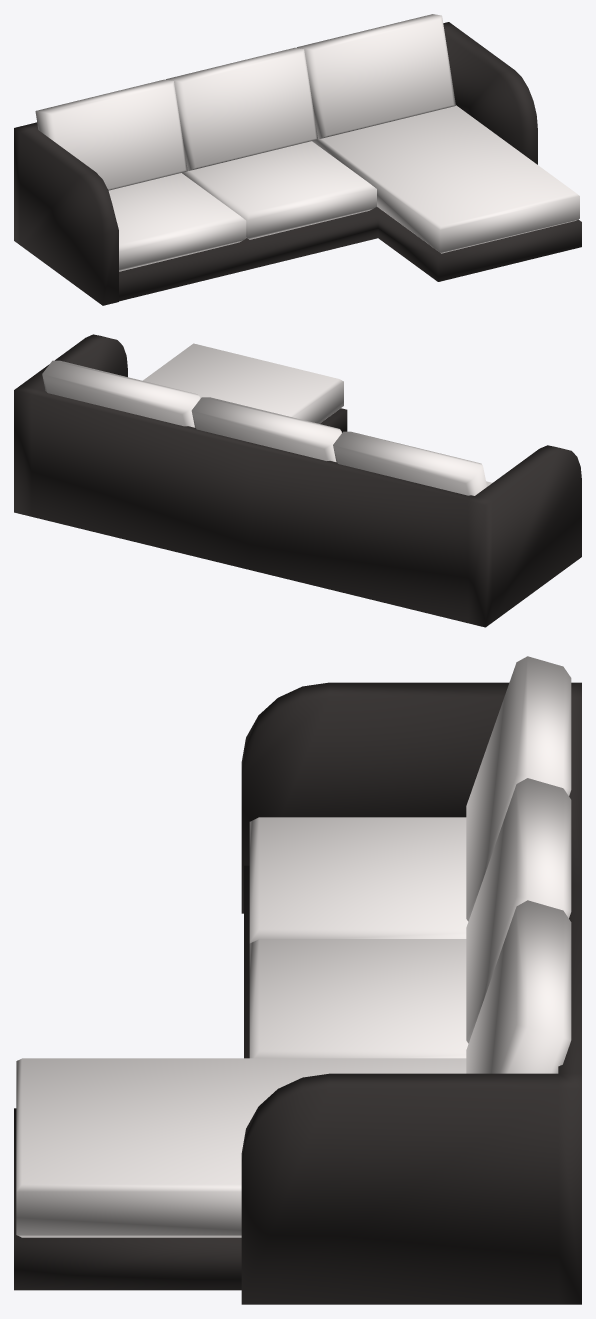
The model's file is Sofa_06.fbx.
3 renders of one model, top to bottom at view 1: azimuth 30°, elevation 25°; view 2: azimuth 150°, elevation 25°; view 3: azimuth 270°, elevation 25°, orthographic. The views are drawn at different scales.
Parts seen in each view (by area): view 1: Sofa_06; view 2: Sofa_06; view 3: Sofa_06.
Boxes of the visible parts, x1=… form: Sofa_06: x1=14, y1=14, x2=581, y2=305; Sofa_06: x1=14, y1=334, x2=581, y2=627; Sofa_06: x1=14, y1=656, x2=581, y2=1304.
Size of the model in its own units: 324 by 95.87 by 191.
